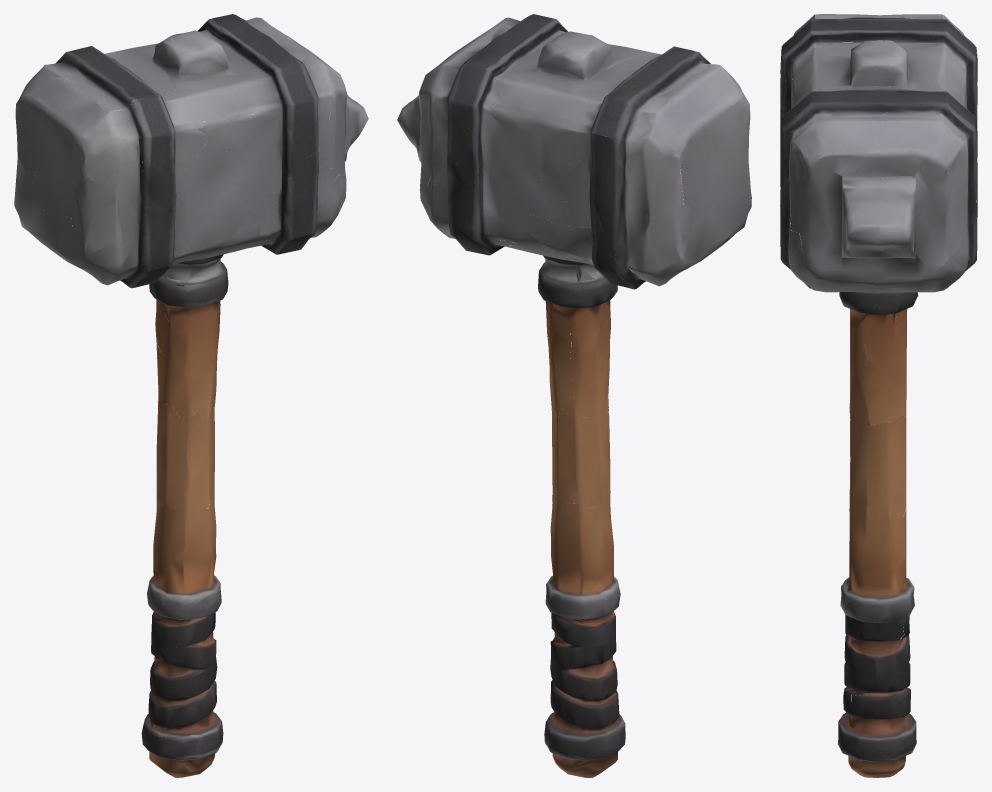
File: Arm_warhammer-CGR-h6PC.glb
3 views of the same model, side by side, from view 1: azimuth 30°, elevation 25°; view 2: azimuth 150°, elevation 25°; view 3: azimuth 270°, elevation 25° (orthographic).
Parts seen in each view (by area): view 1: Arm_warhammer; view 2: Arm_warhammer; view 3: Arm_warhammer.
Part boxes in pixels (bbox=[...]): Arm_warhammer: bbox=[14, 14, 368, 777]; Arm_warhammer: bbox=[397, 14, 751, 777]; Arm_warhammer: bbox=[780, 14, 977, 777].
Bounding box in the file's own units: 0.7882 × 1.8 × 0.4436.
1 material, 1 textured.
